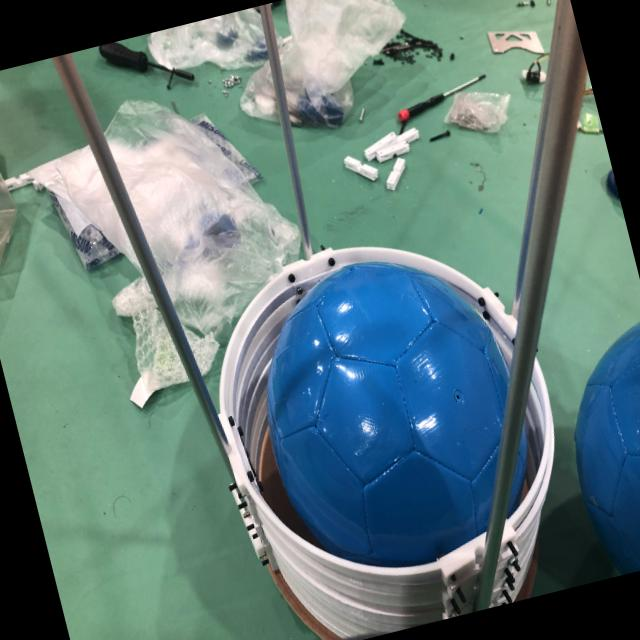blue_ball: (235, 232, 550, 580), (544, 312, 640, 579)
